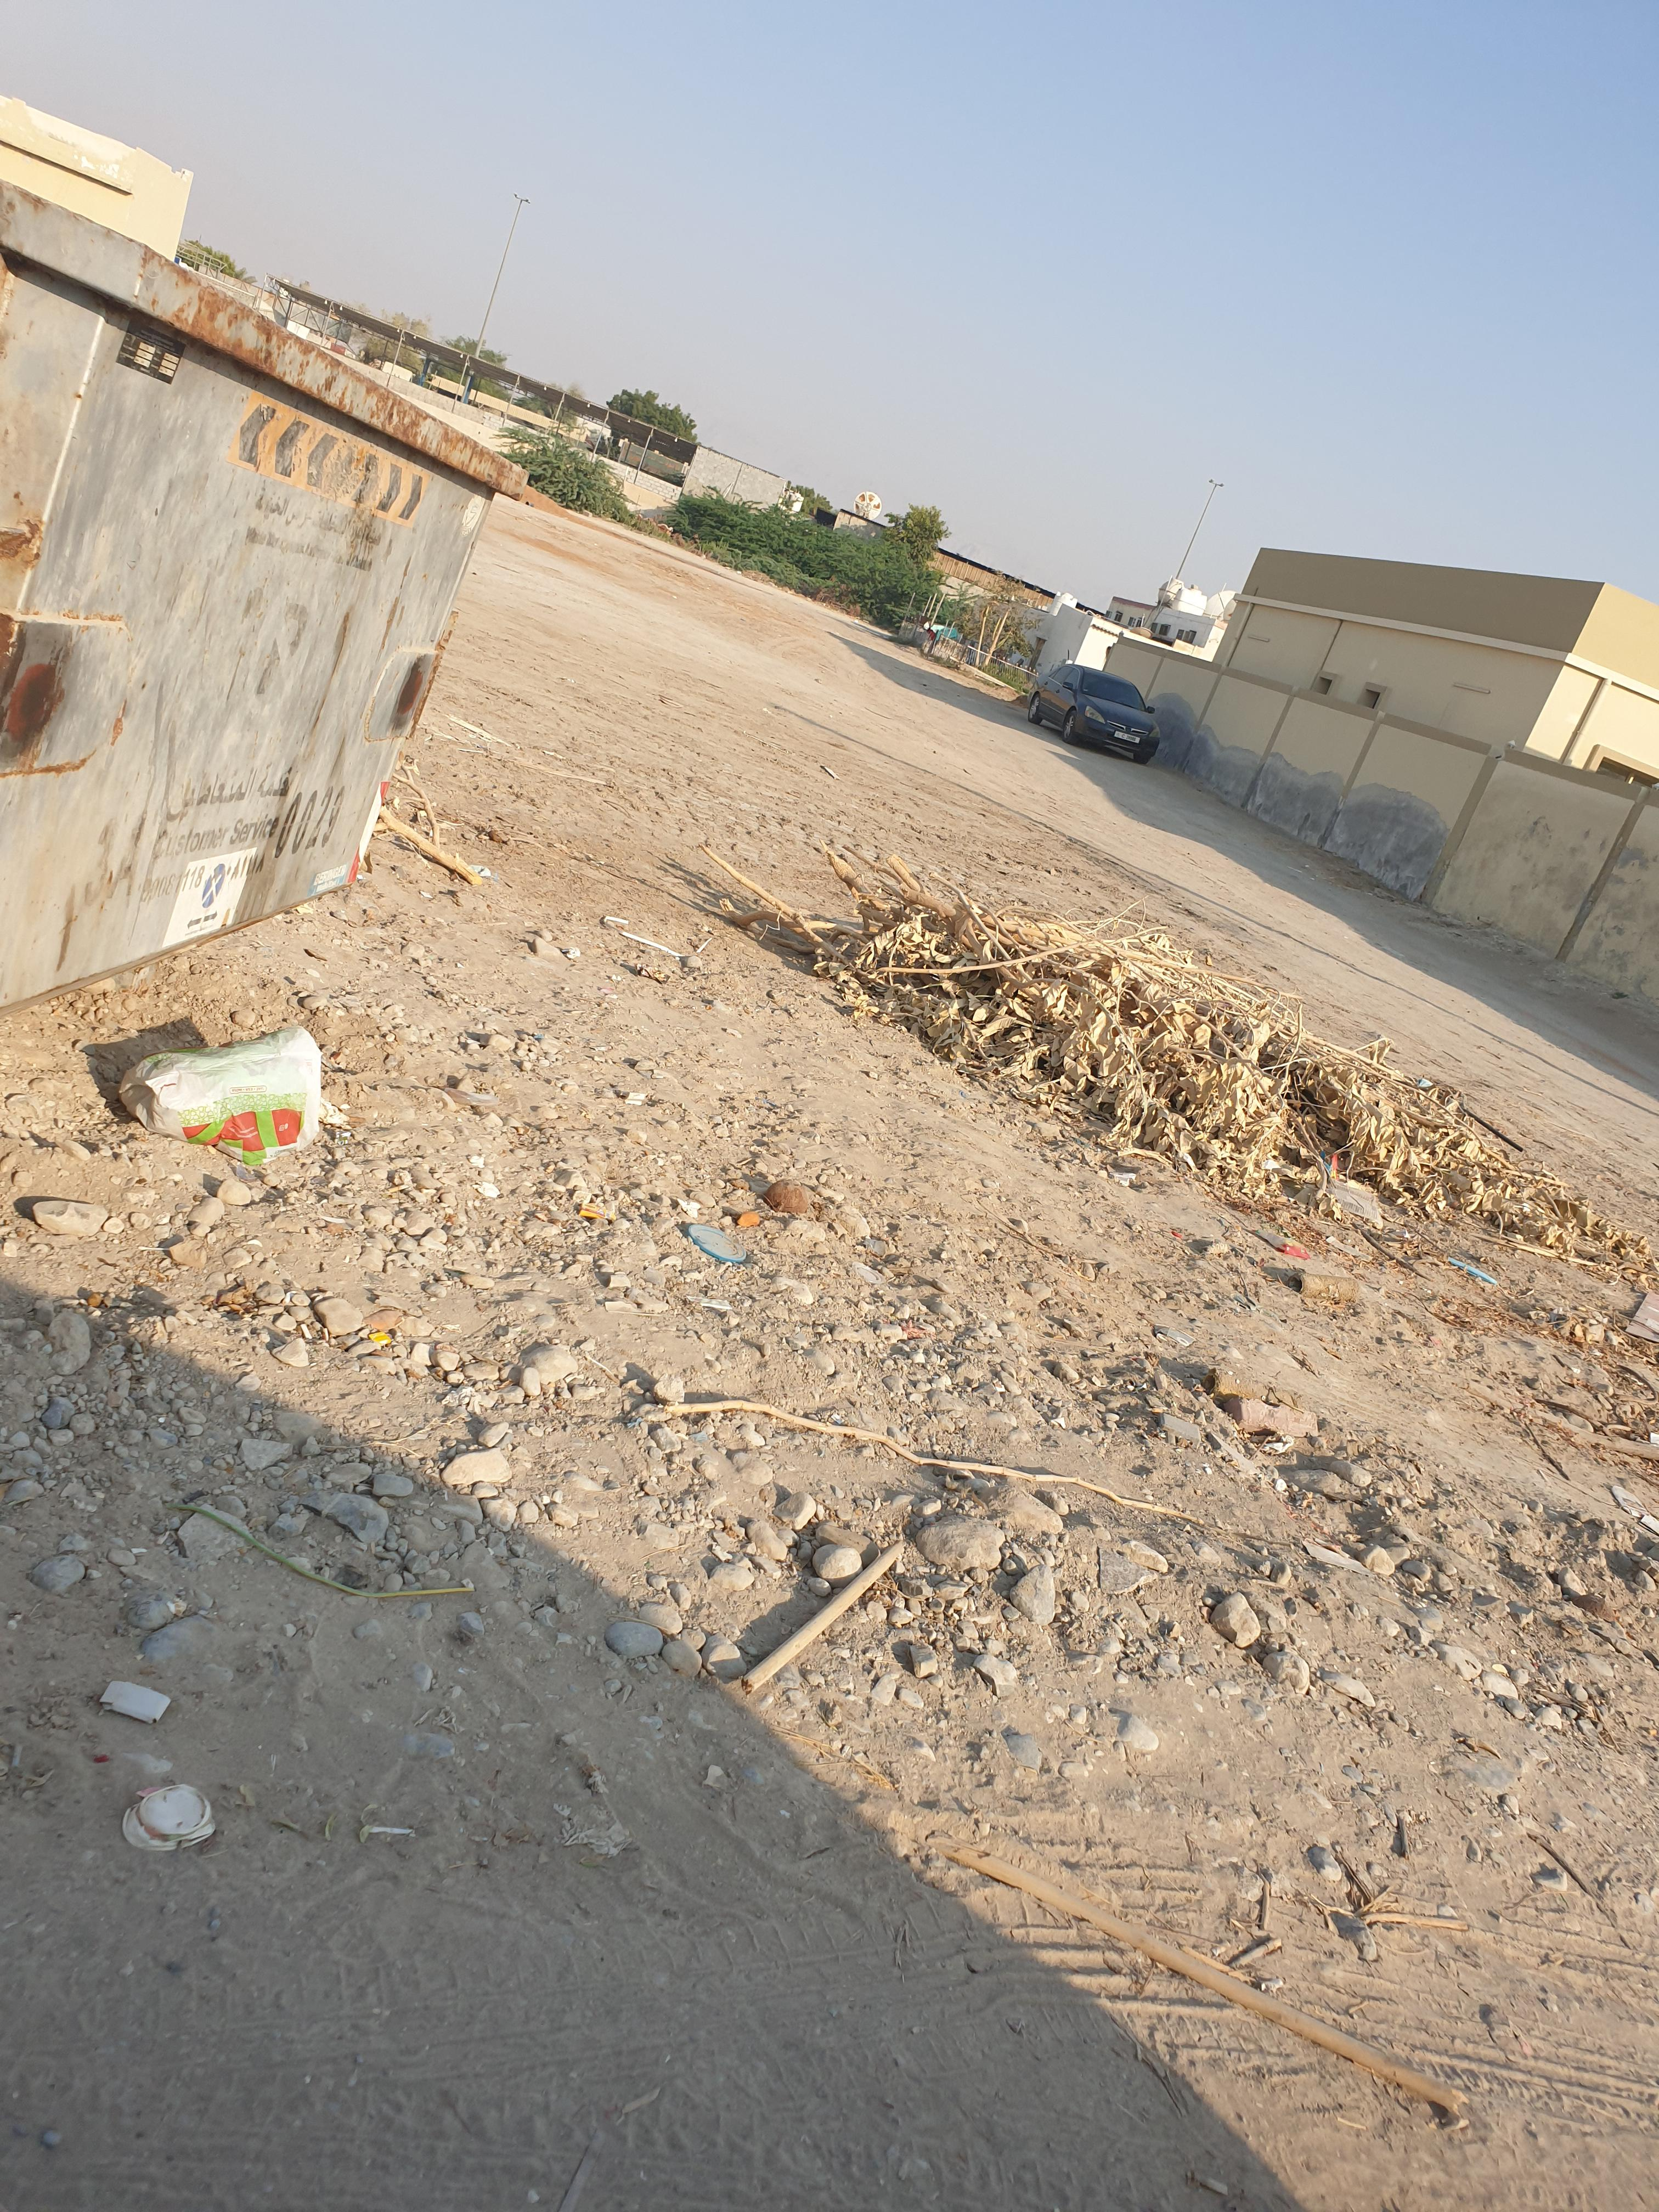fallen_trees: (789, 801, 1659, 1493), (697, 855, 1629, 1317), (913, 981, 1608, 1285)
